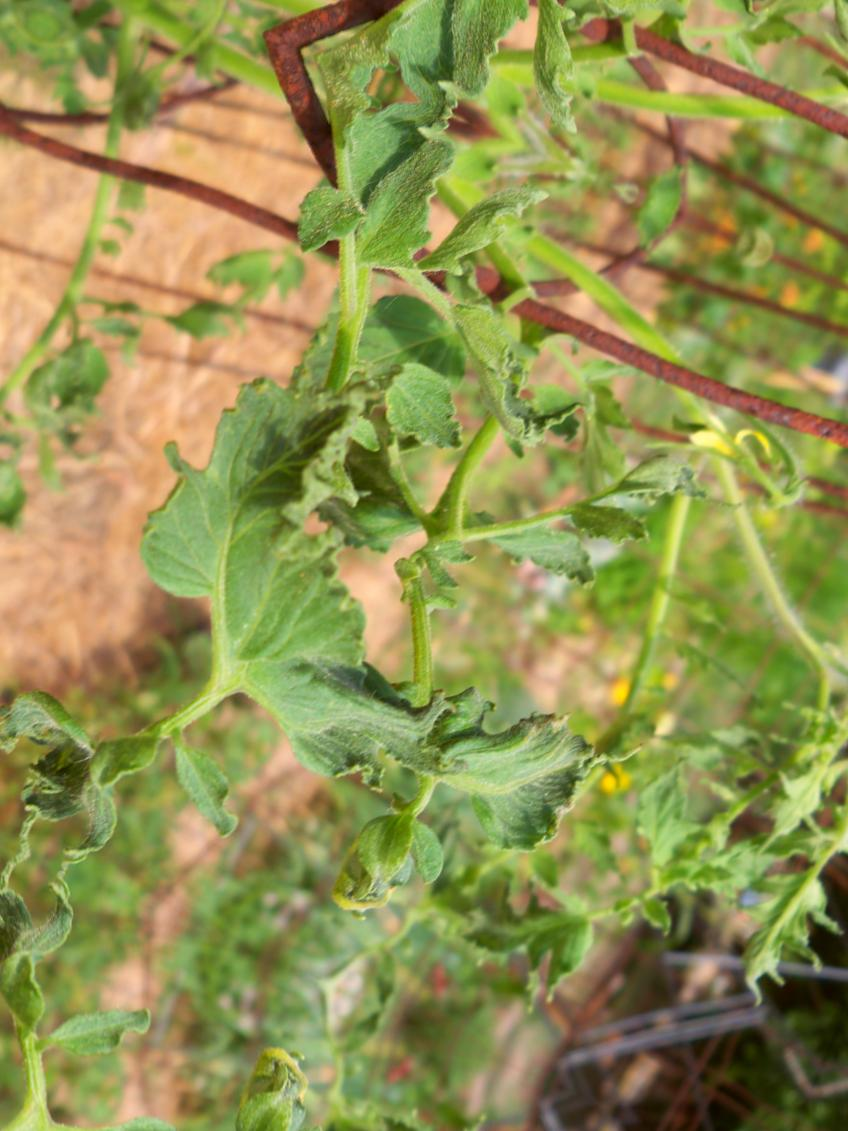Tomato leaf mosaic virus: (202, 579, 644, 891), (98, 357, 452, 739), (0, 659, 189, 896), (273, 81, 476, 294), (477, 502, 620, 603), (368, 349, 489, 466)
